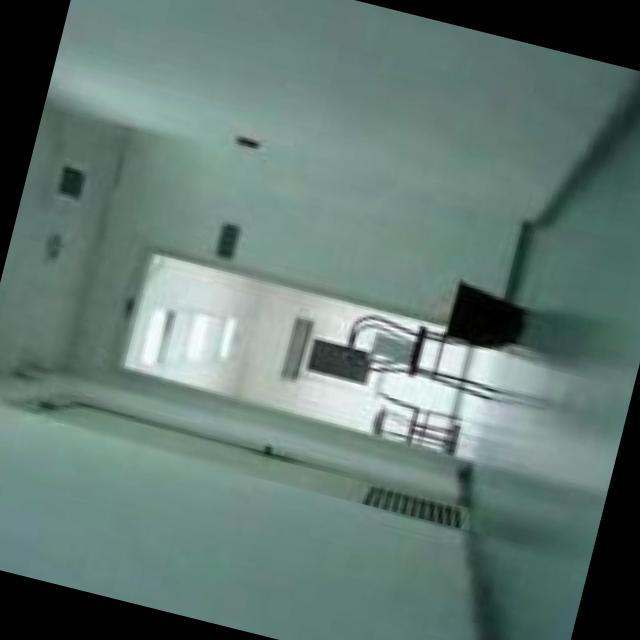Fire: (443, 325, 445, 331)
